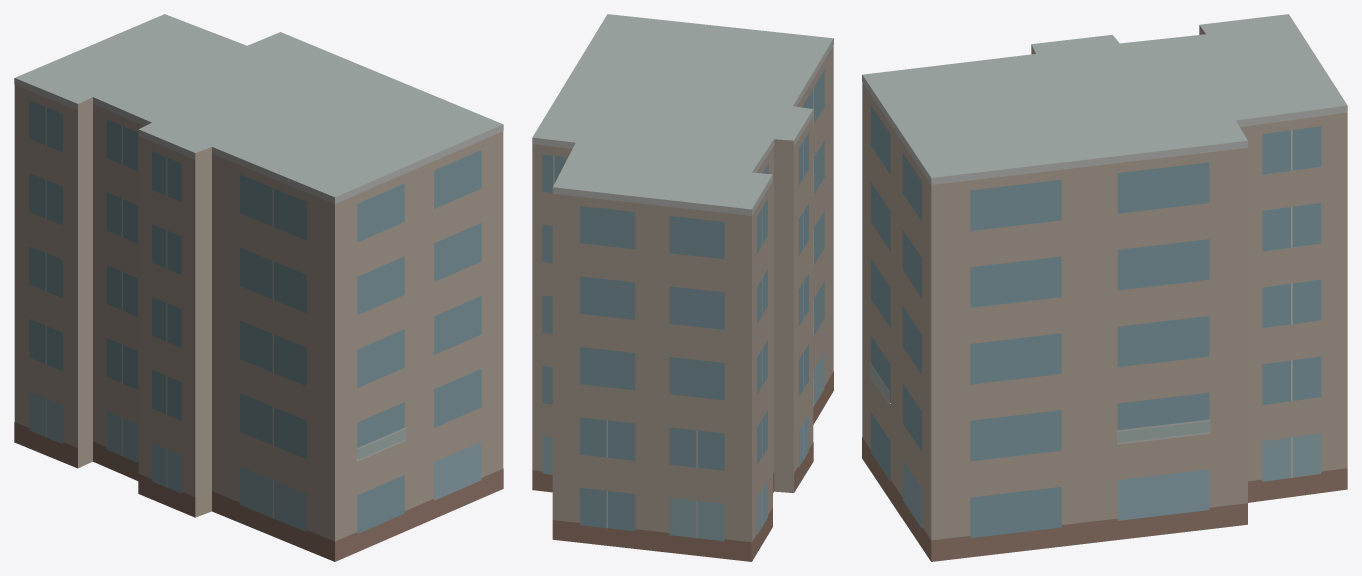
File: survey-upis-32756377.glb
3 views of the same model, side by side, from view 1: azimuth 30°, elevation 25°; view 2: azimuth 150°, elevation 25°; view 3: azimuth 270°, elevation 25° (orthographic). The views are drawn at different scales.
Visible parts, largest first — view 1: survey-upis-32756377.tmp; view 2: survey-upis-32756377.tmp; view 3: survey-upis-32756377.tmp.
Part boxes in pixels (bbox=[...]): survey-upis-32756377.tmp: bbox=[14, 14, 503, 561]; survey-upis-32756377.tmp: bbox=[532, 14, 833, 561]; survey-upis-32756377.tmp: bbox=[862, 14, 1347, 561].
Bounding box in the file's own units: 12.15 × 13.25 × 15.2.
